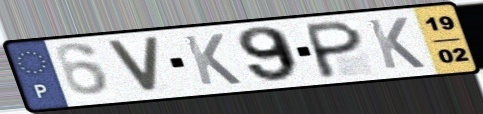6: (56, 40, 113, 103)
9: (237, 24, 304, 85)
K: (364, 15, 428, 71), (180, 32, 245, 87)
P: (305, 18, 365, 80)
V: (102, 35, 163, 95)
